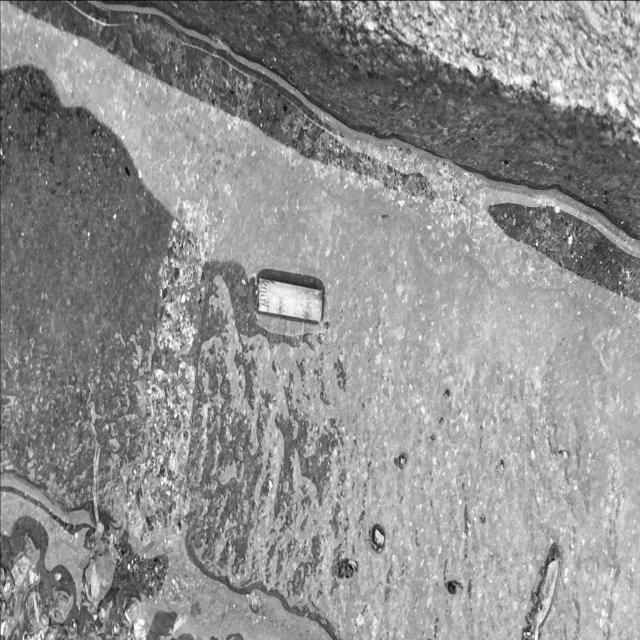other waste: (257, 276, 323, 322)
